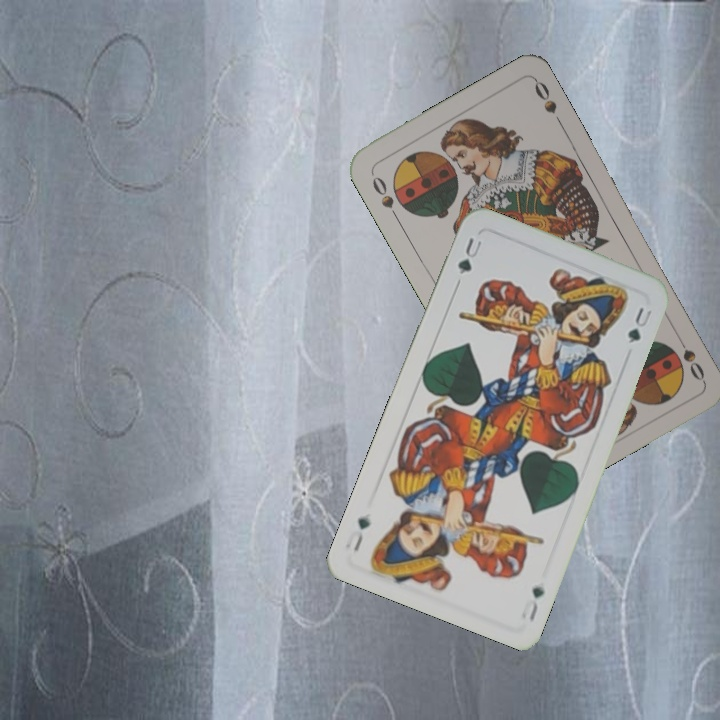GU: (453, 233, 484, 277), (525, 582, 547, 625)
SO: (671, 329, 708, 384), (367, 169, 402, 223)
